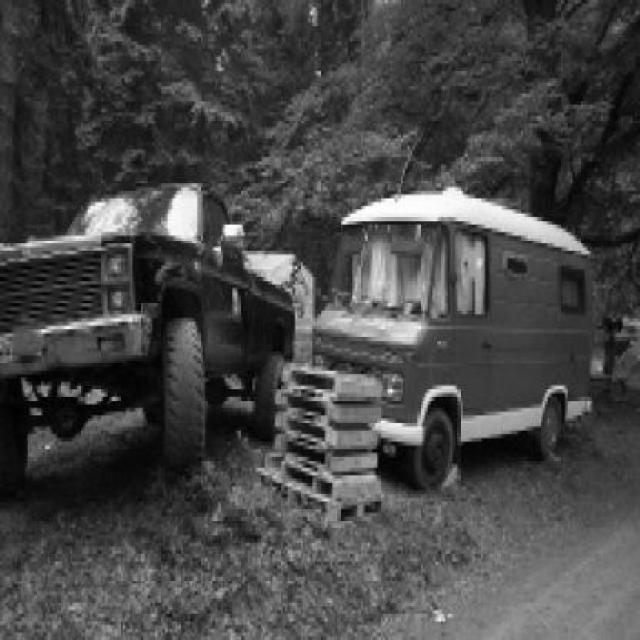Pickup: (0, 184, 295, 495)
Van: (313, 188, 595, 490)
